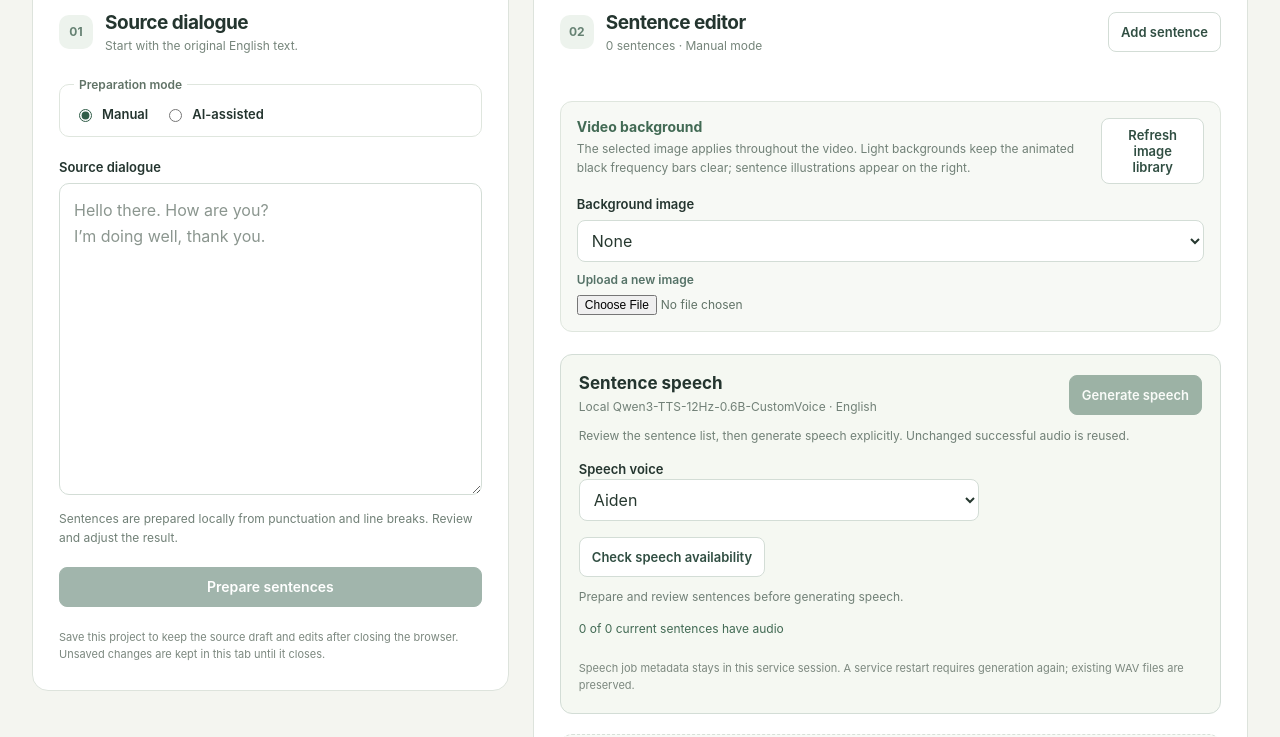
Test: sentence speech UI › bounds waiting and keeps a known job resumable after a polling failure
(page scrolled)
Type "Hello. Next." into the text box labelled "Source dialogue" at (270, 339), box [59,183,482,494]
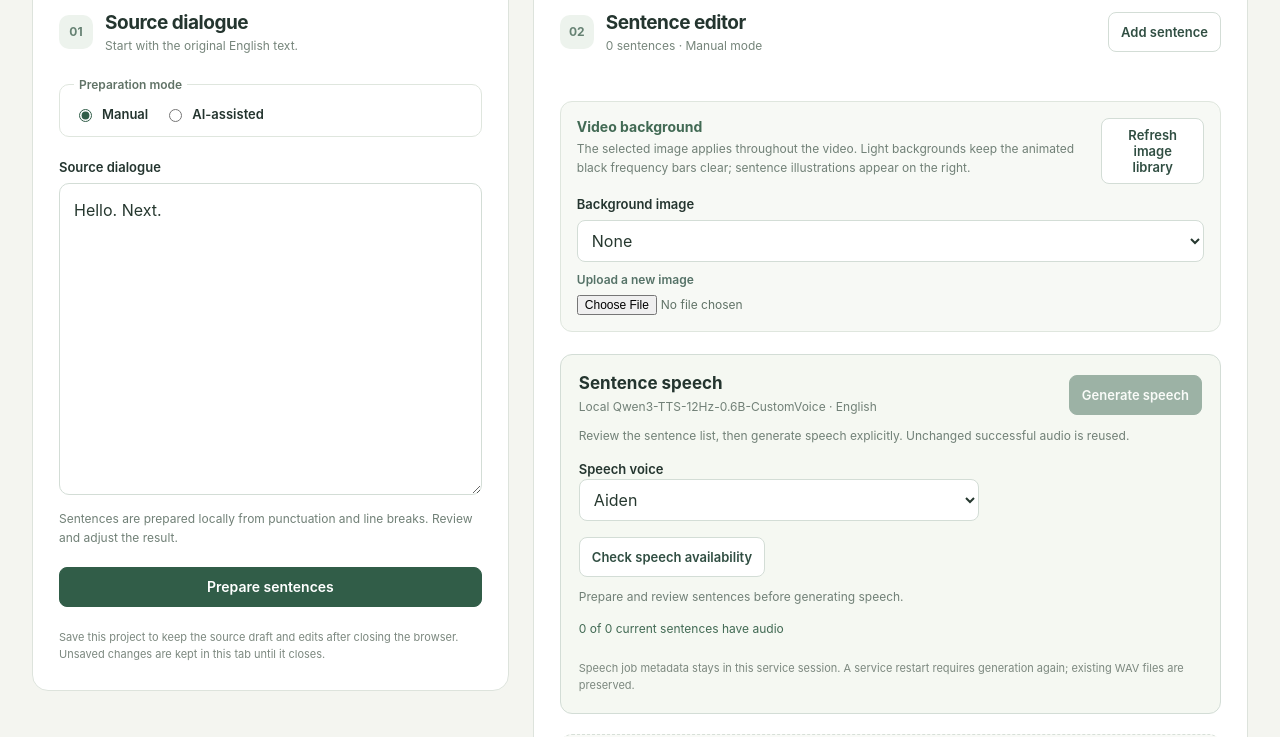
Click the button "Prepare sentences" at (270, 587), box [59,567,482,607]
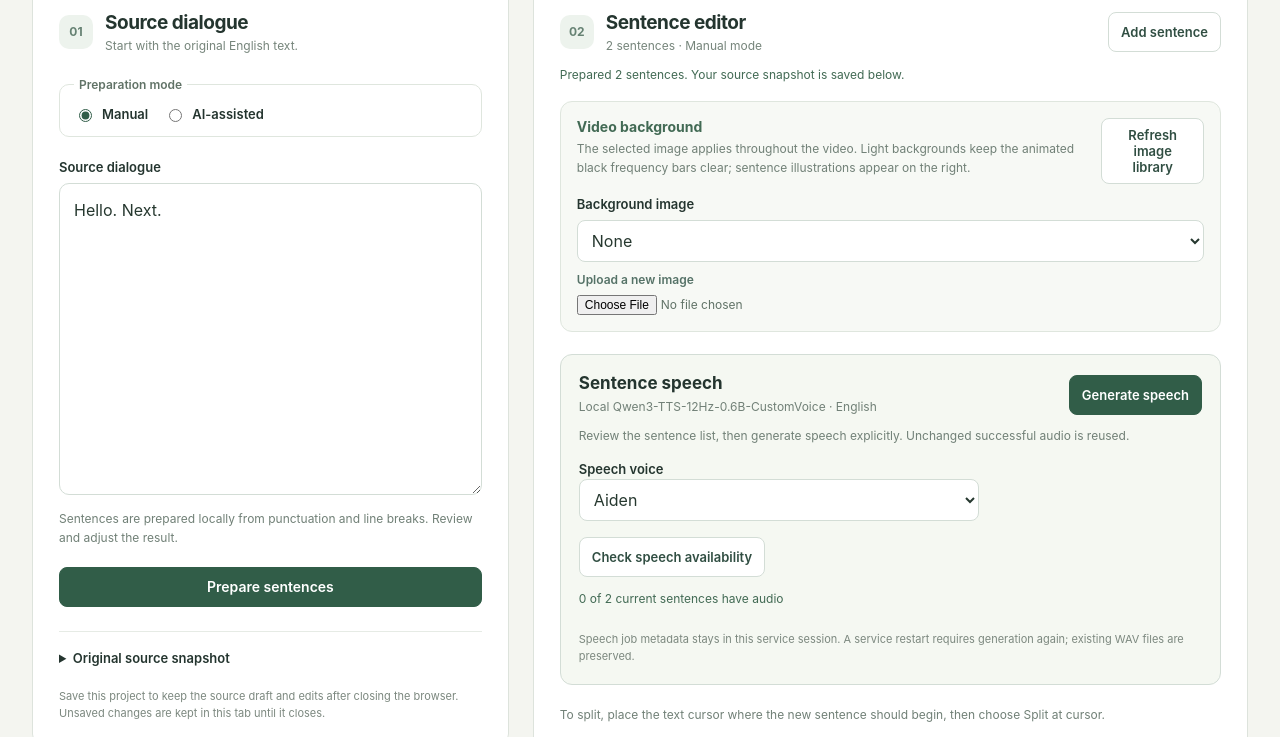
Click the button "Generate speech" at (1135, 395), box [1069,375,1202,415]
Wait 1000 ms
(page scrolled)
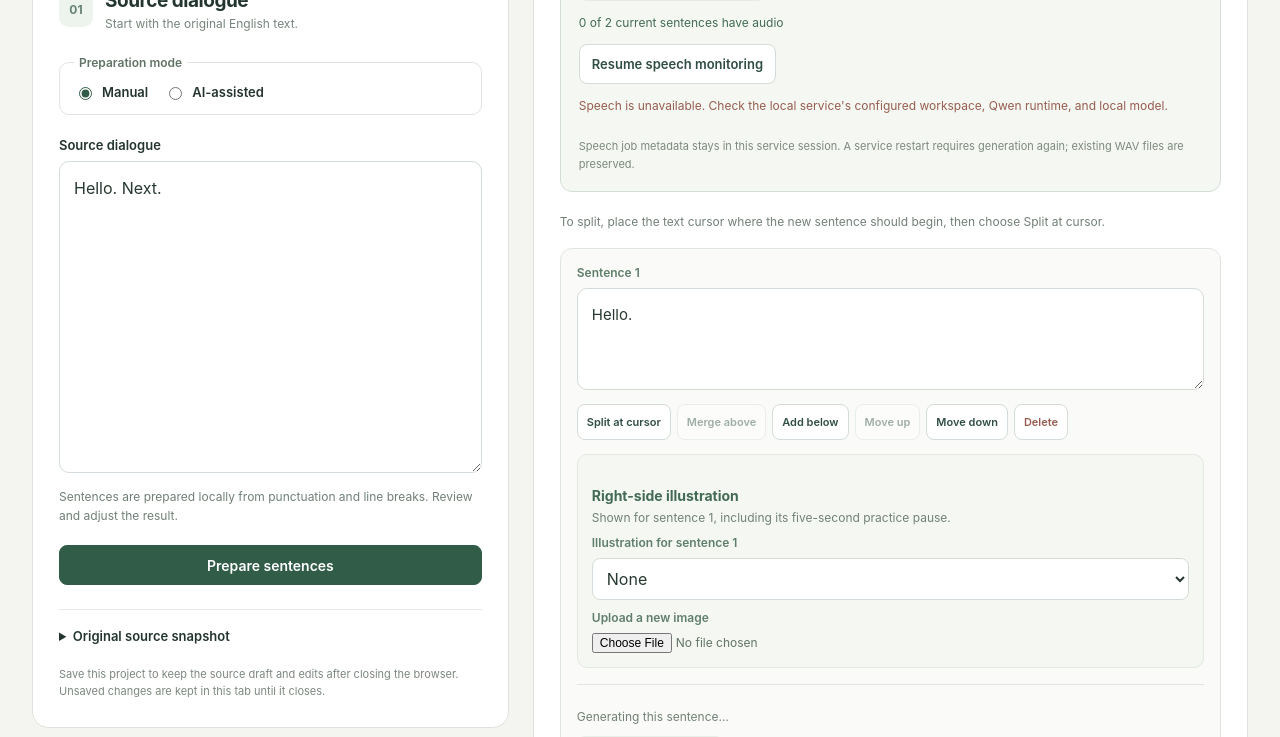
Expected: the text box labelled "Sentence 1" is enabled, [577,288,1204,390]
Expected: the button "Resume speech monitoring" is shown, [579,44,776,84]
